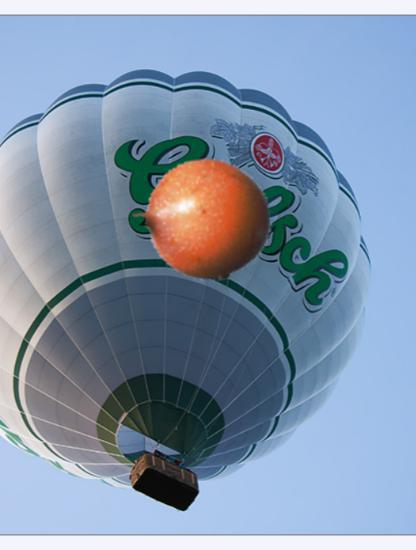Granadilla: (133, 151, 272, 290)
